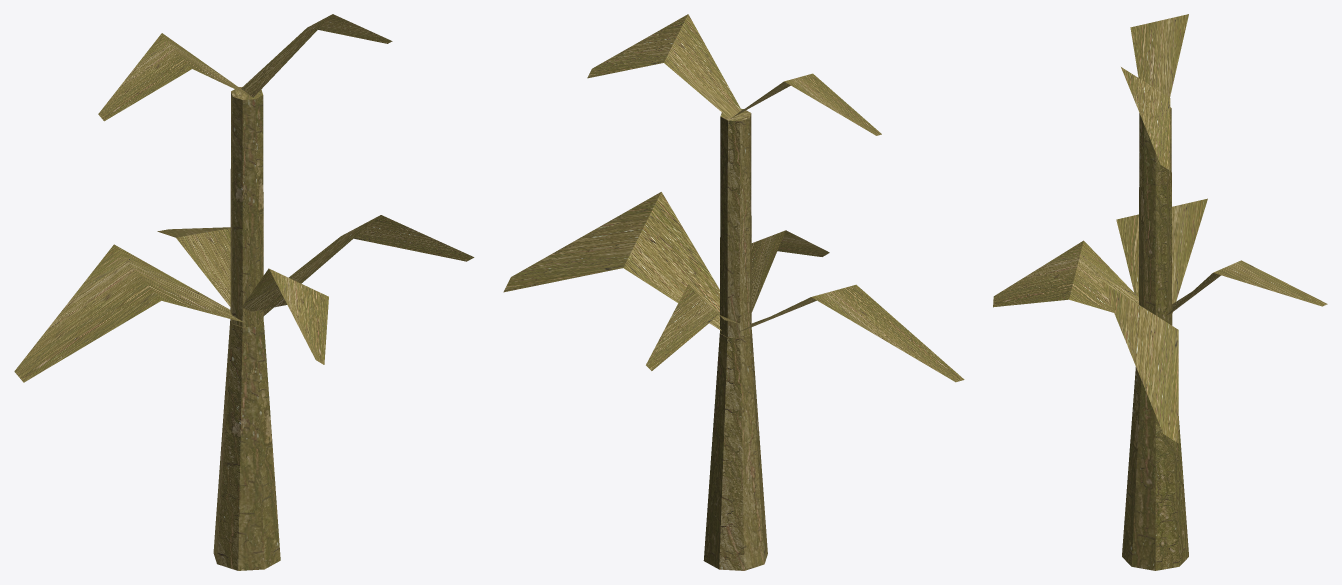
File: potato2.glb
The picture shows the model from 3 angles, left to right: view 1: azimuth 30°, elevation 25°; view 2: azimuth 150°, elevation 25°; view 3: azimuth 270°, elevation 25°; orthographic projection. The views are drawn at different scales.
Parts seen in each view (by area): view 1: potato2; view 2: potato2; view 3: potato2.
Boxes of the visible parts, box(x1,y1,x2,y2) form: potato2: box(14, 14, 474, 570); potato2: box(503, 14, 964, 570); potato2: box(993, 14, 1327, 570).
Size of the model in its own units: 0.2435 by 0.271 by 0.1576.
Materials: 1 (1 with a texture image).
